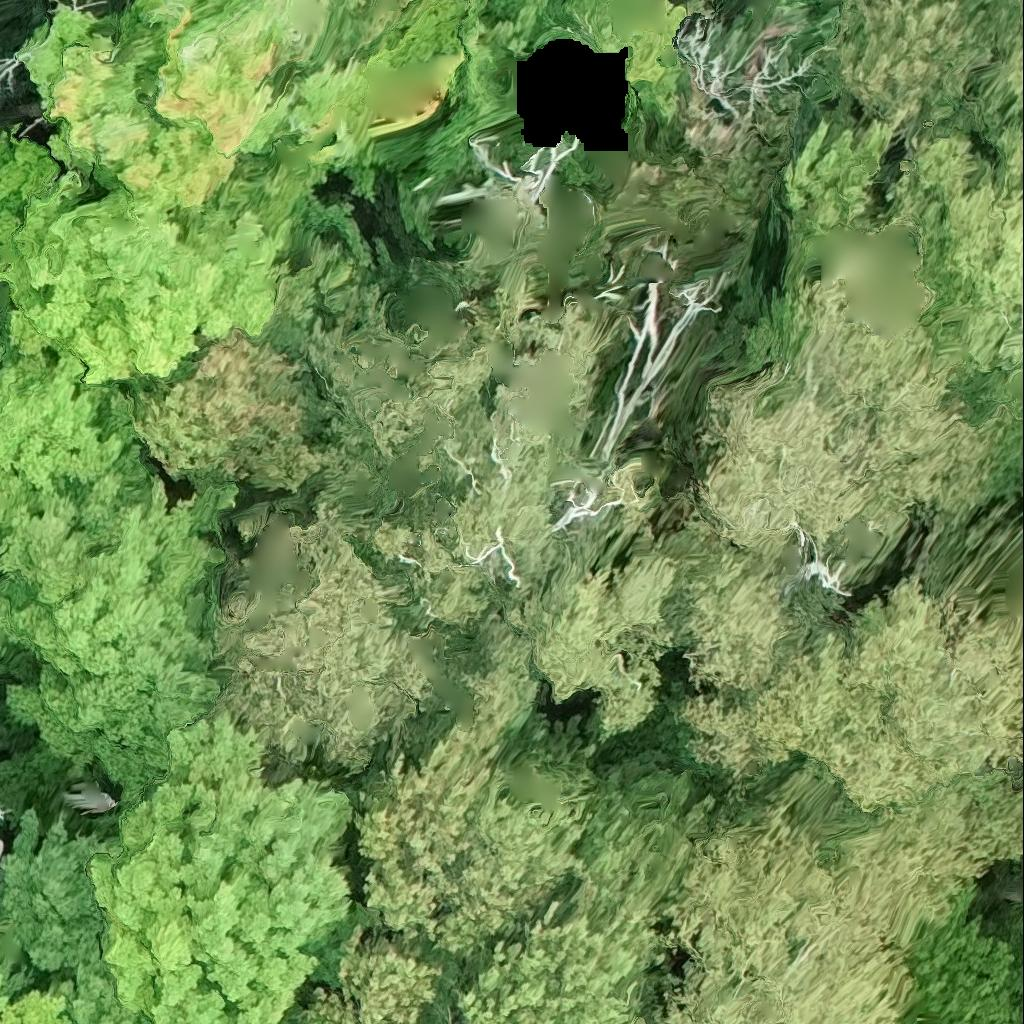crown: (0, 706, 359, 1023), (0, 311, 221, 805), (0, 130, 285, 381), (0, 985, 66, 1023)
